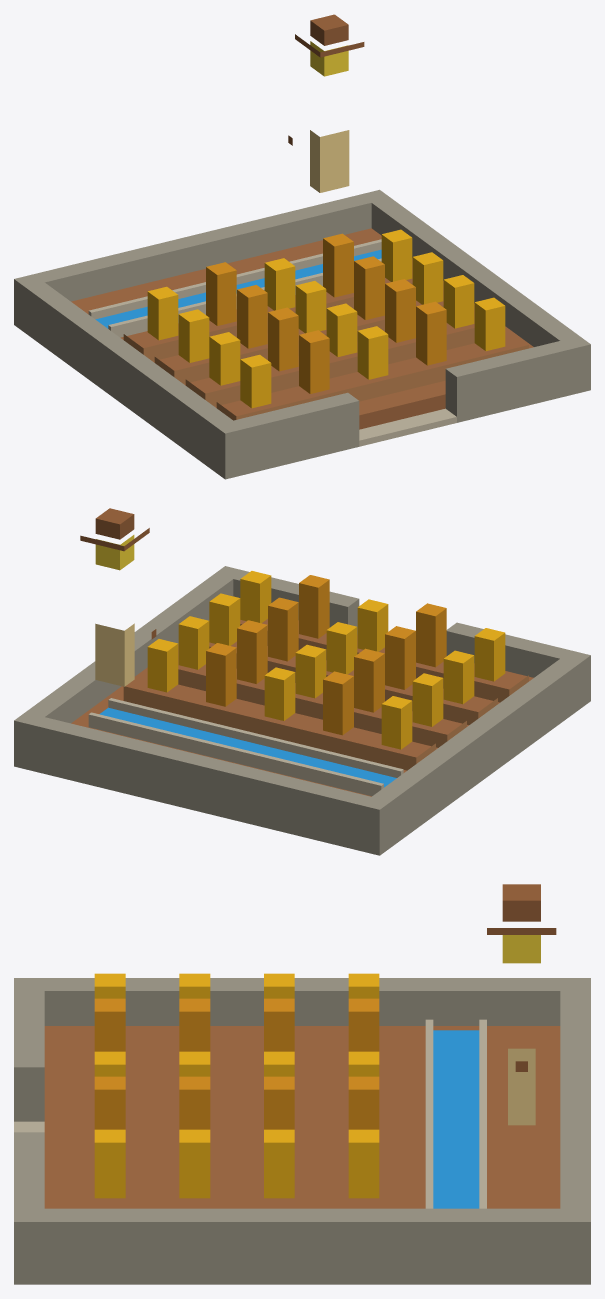
The model's file is field_t3_v1.glb.
3 views of the same model, one above another, from view 1: azimuth 30°, elevation 25°; view 2: azimuth 150°, elevation 25°; view 3: azimuth 270°, elevation 25° (orthographic). The views are drawn at different scales.
Parts seen in each view (by area): view 1: field_t3_v1; view 2: field_t3_v1; view 3: field_t3_v1.
Part boxes in pixels (x1,y1,x2,y2): field_t3_v1: (14, 14, 590, 479); field_t3_v1: (14, 508, 590, 855); field_t3_v1: (14, 884, 590, 1284).
Size of the model in its own units: 0.75 by 0.49 by 0.75.
Materials: 1 (1 with a texture image).
